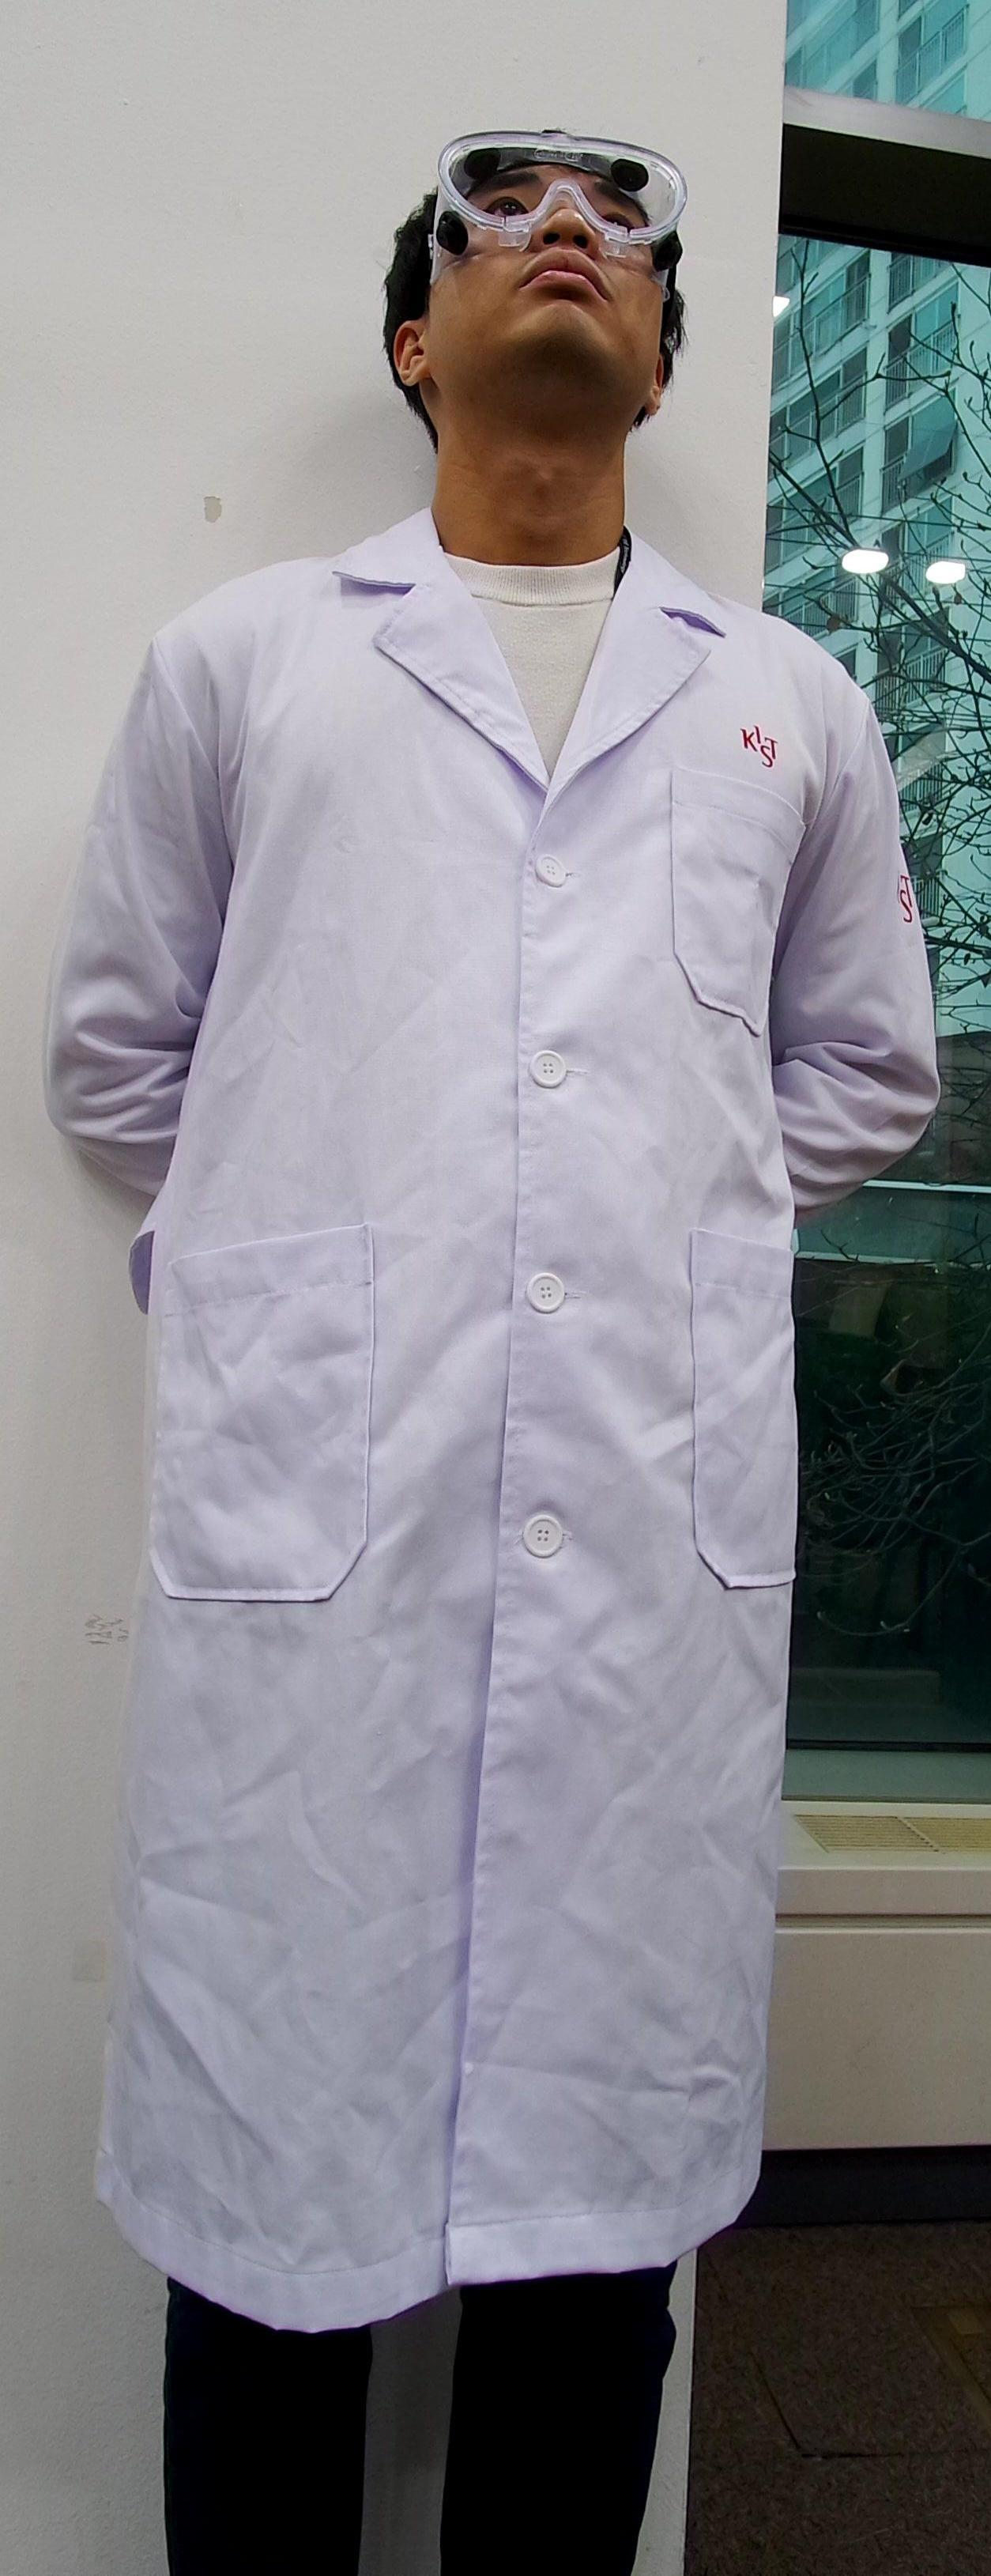lab_coat: (39, 642, 871, 2295)
